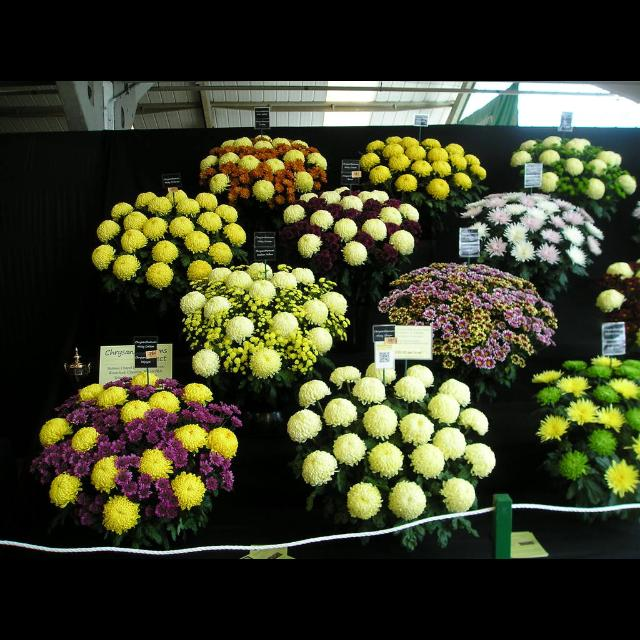Flower: (28, 370, 248, 536), (288, 366, 500, 522), (380, 256, 564, 374), (190, 258, 354, 382), (88, 190, 255, 292), (530, 350, 640, 498), (276, 183, 428, 271), (462, 190, 604, 266), (200, 134, 334, 208), (357, 136, 489, 204), (509, 132, 639, 192), (594, 262, 640, 348), (336, 484, 392, 528)
